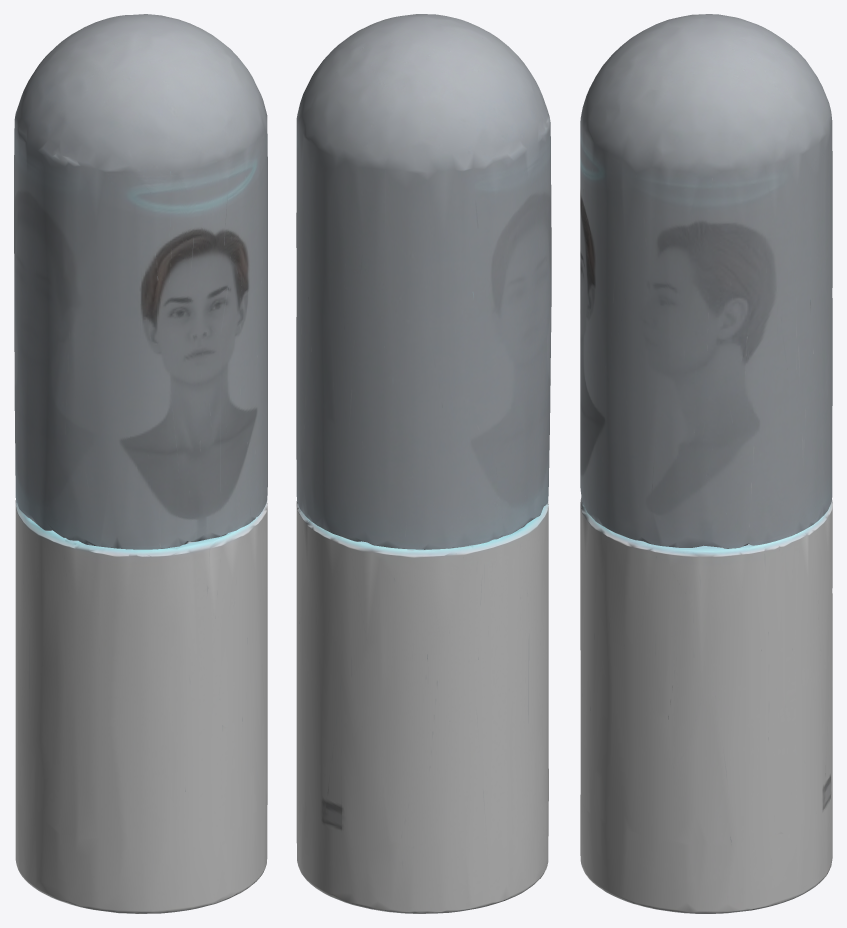
File: Lobby_ExhibitPedestal.glb
The picture shows the model from 3 angles, left to right: view 1: azimuth 30°, elevation 25°; view 2: azimuth 150°, elevation 25°; view 3: azimuth 270°, elevation 25°; orthographic projection.
Bounding box in the file's own units: 0.5212 × 1.9 × 0.5198.
1 material, 1 textured.
